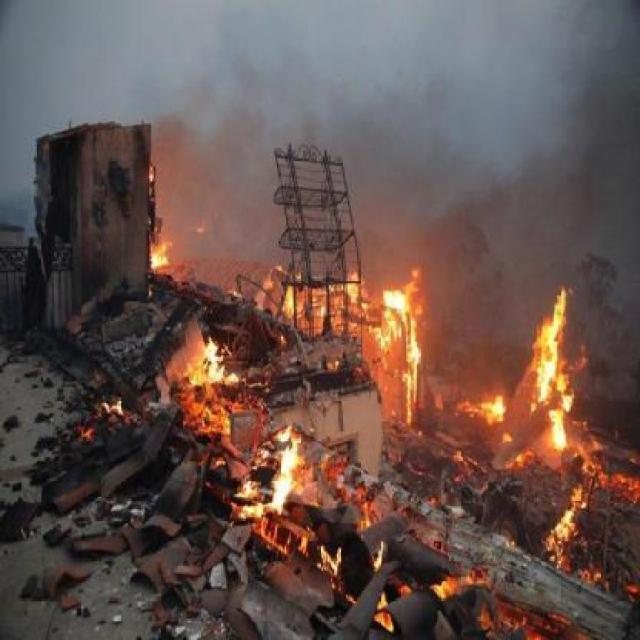Fire: (186, 236, 608, 582)
Smoke: (369, 72, 626, 278)
